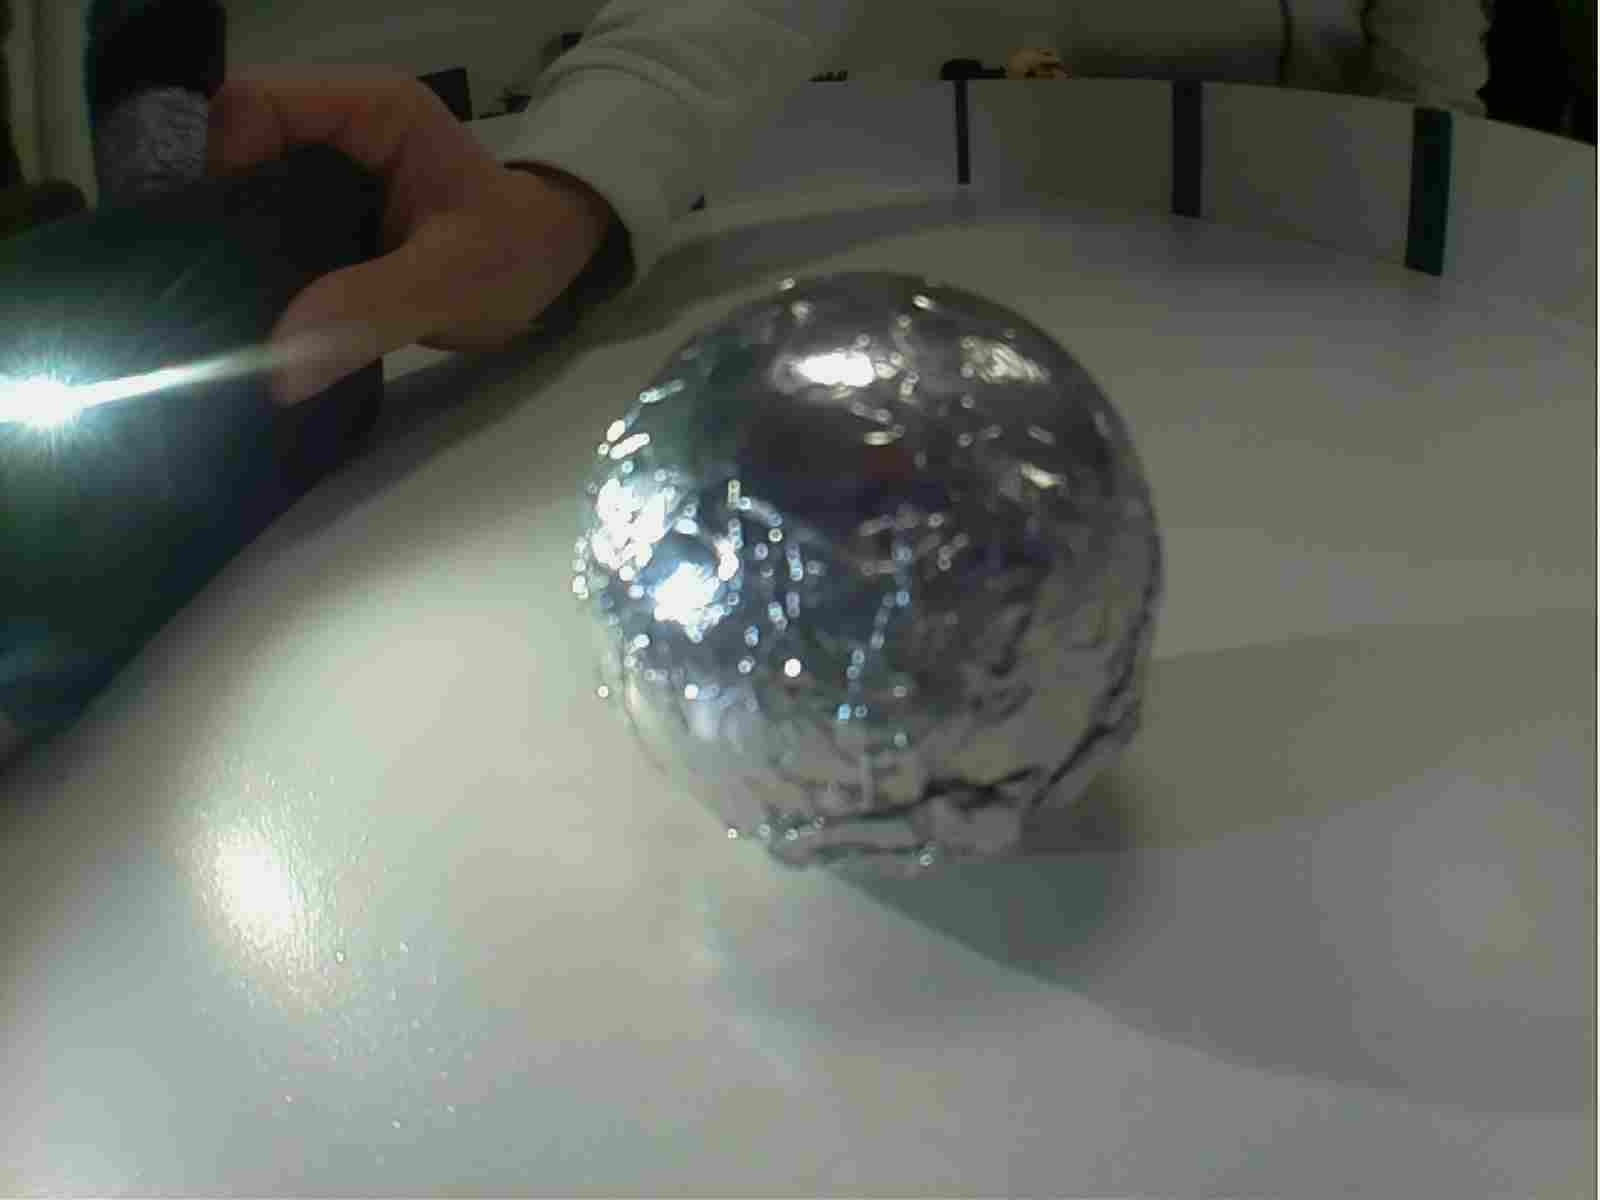bianca: (577, 263, 1179, 882)
